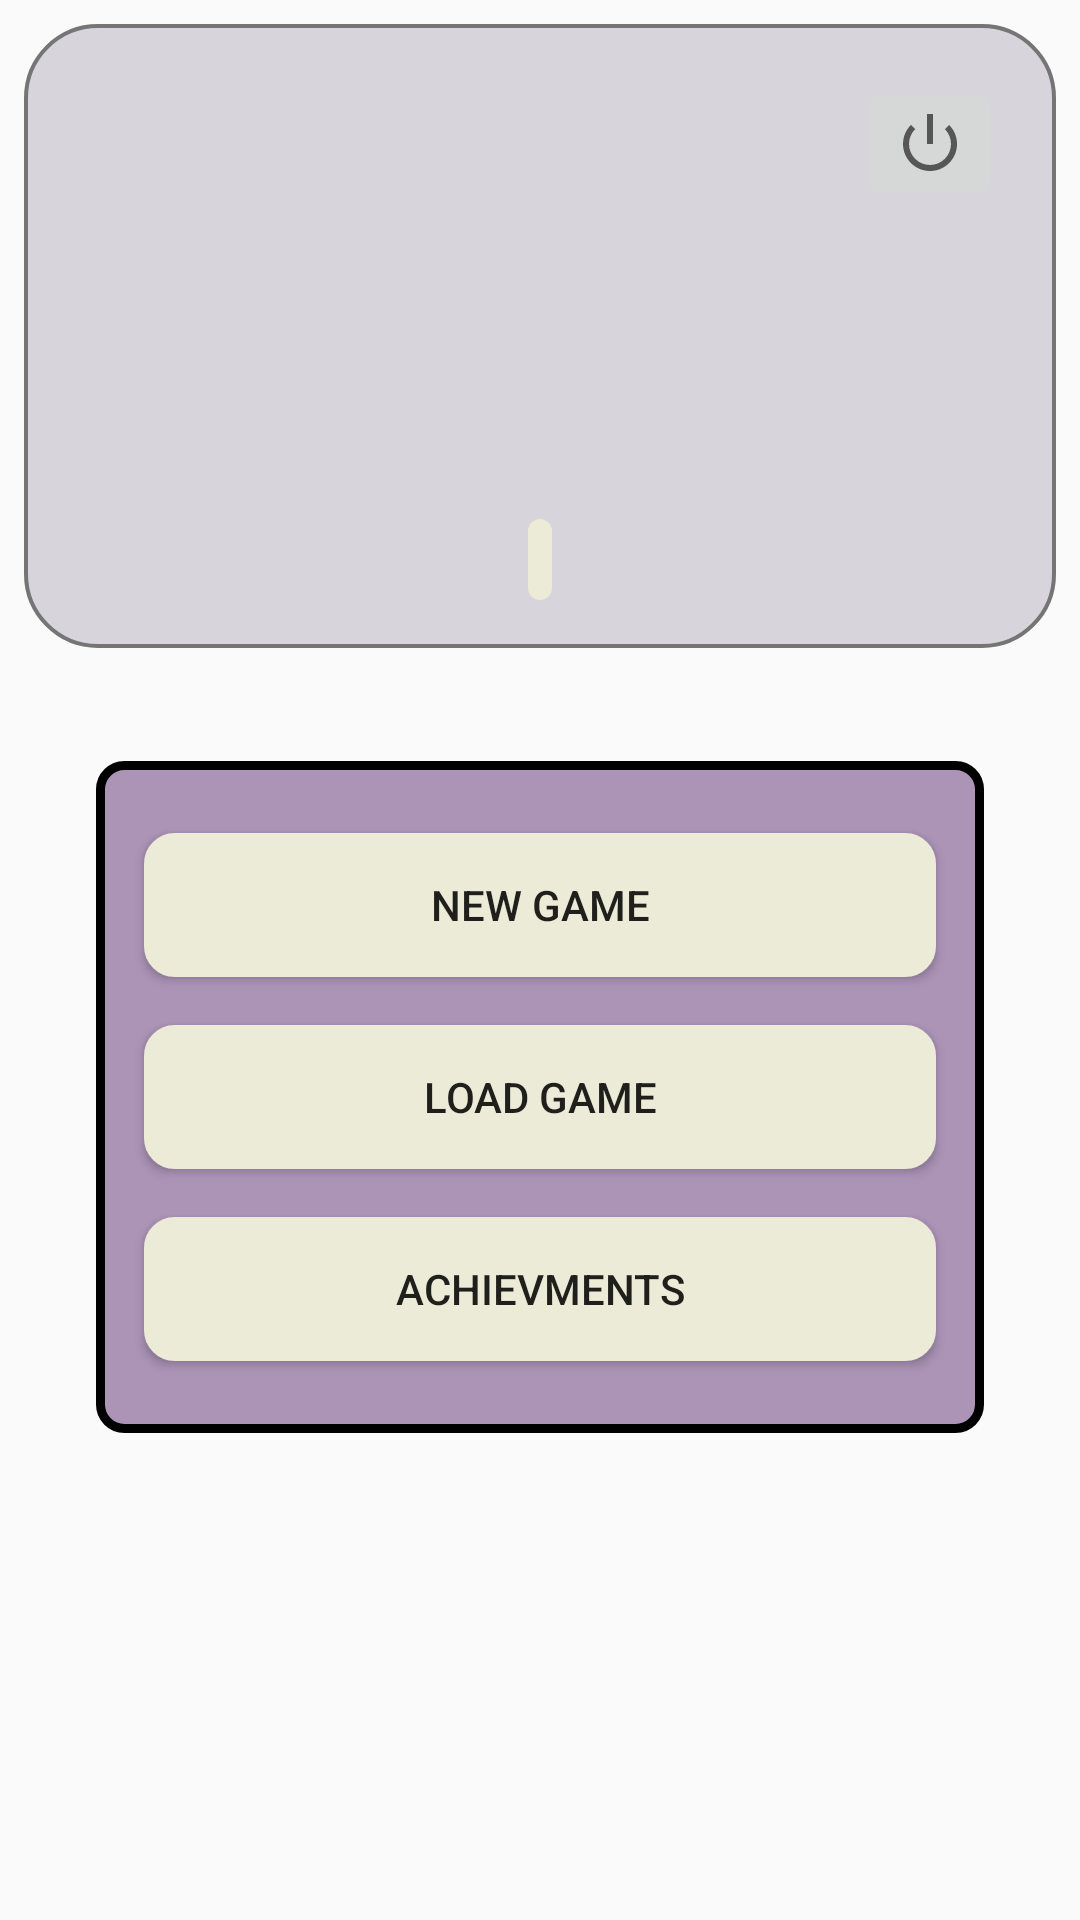

Icons on this 1080*1920 Android screen, each with the point to tap as (x,y):
lock power off: (930,142)
